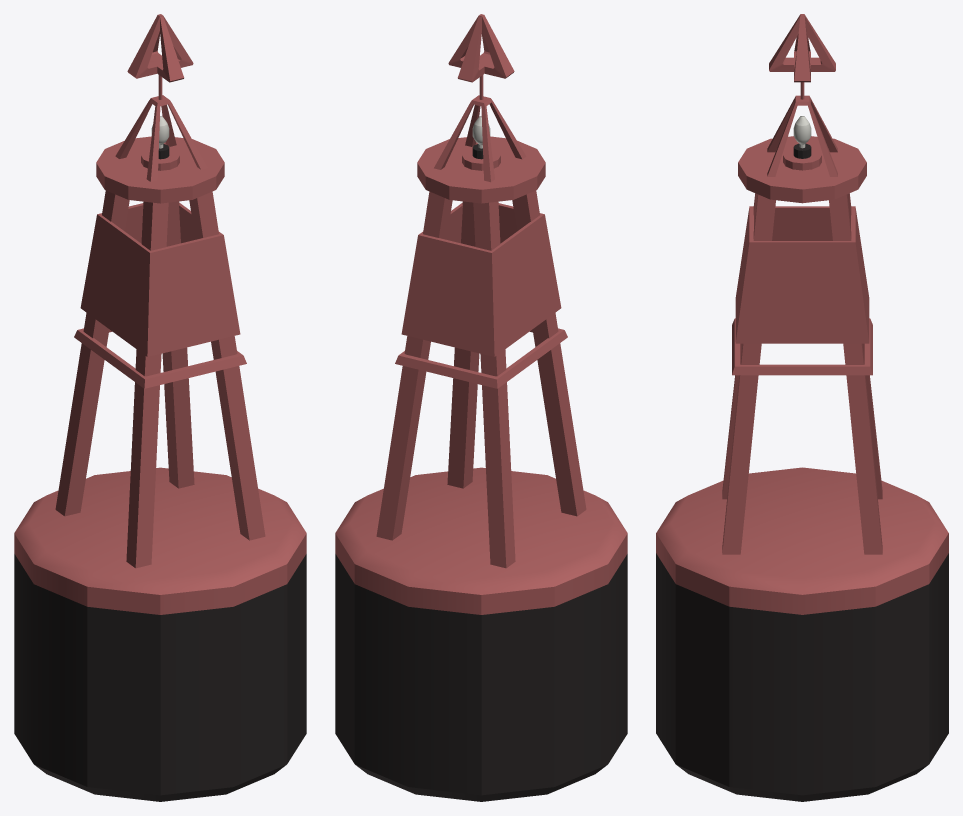
The model's file is Buoys_Triangulo.fbx.
3 views of the same model, side by side, from view 1: azimuth 30°, elevation 25°; view 2: azimuth 150°, elevation 25°; view 3: azimuth 270°, elevation 25° (orthographic).
Visible parts, largest first — view 1: pCylinder9, pCube25, pCube26, pCylinder10, pCube27, pCube29, pTorus3, pTorus4; view 2: pCylinder9, pCube25, pCube26, pCylinder10, pCube27, pCube29, pTorus3, pTorus4; view 3: pCylinder9, pCube26, pCube25, pCylinder10, pCube27, pCube29, pTorus4, pTorus3, pCylinder11.
Part boxes in pixels (x1,y1,x2,y2): pCylinder9: (14, 467, 306, 801); pCube25: (55, 190, 265, 568); pCube26: (80, 203, 240, 356); pCylinder10: (96, 136, 224, 203); pCube27: (74, 328, 246, 388); pCube29: (115, 95, 207, 181); pTorus3: (127, 14, 193, 78); pTorus4: (150, 15, 184, 82); pCylinder9: (335, 467, 627, 801); pCube25: (376, 190, 586, 568); pCube26: (401, 203, 561, 356); pCylinder10: (417, 136, 545, 203); pCube27: (395, 328, 567, 388); pCube29: (434, 95, 526, 182); pTorus3: (448, 14, 514, 78); pTorus4: (457, 15, 491, 82); pCylinder9: (656, 467, 948, 801); pCube26: (735, 206, 869, 343); pCube25: (722, 193, 882, 554); pCylinder10: (738, 136, 866, 203); pCube27: (732, 318, 872, 375); pCube29: (767, 95, 837, 176); pTorus4: (769, 14, 835, 71); pTorus3: (794, 14, 810, 82); pCylinder11: (783, 148, 821, 170).
Bounding box in the file's own units: 1.59 × 4.39 × 1.59.
